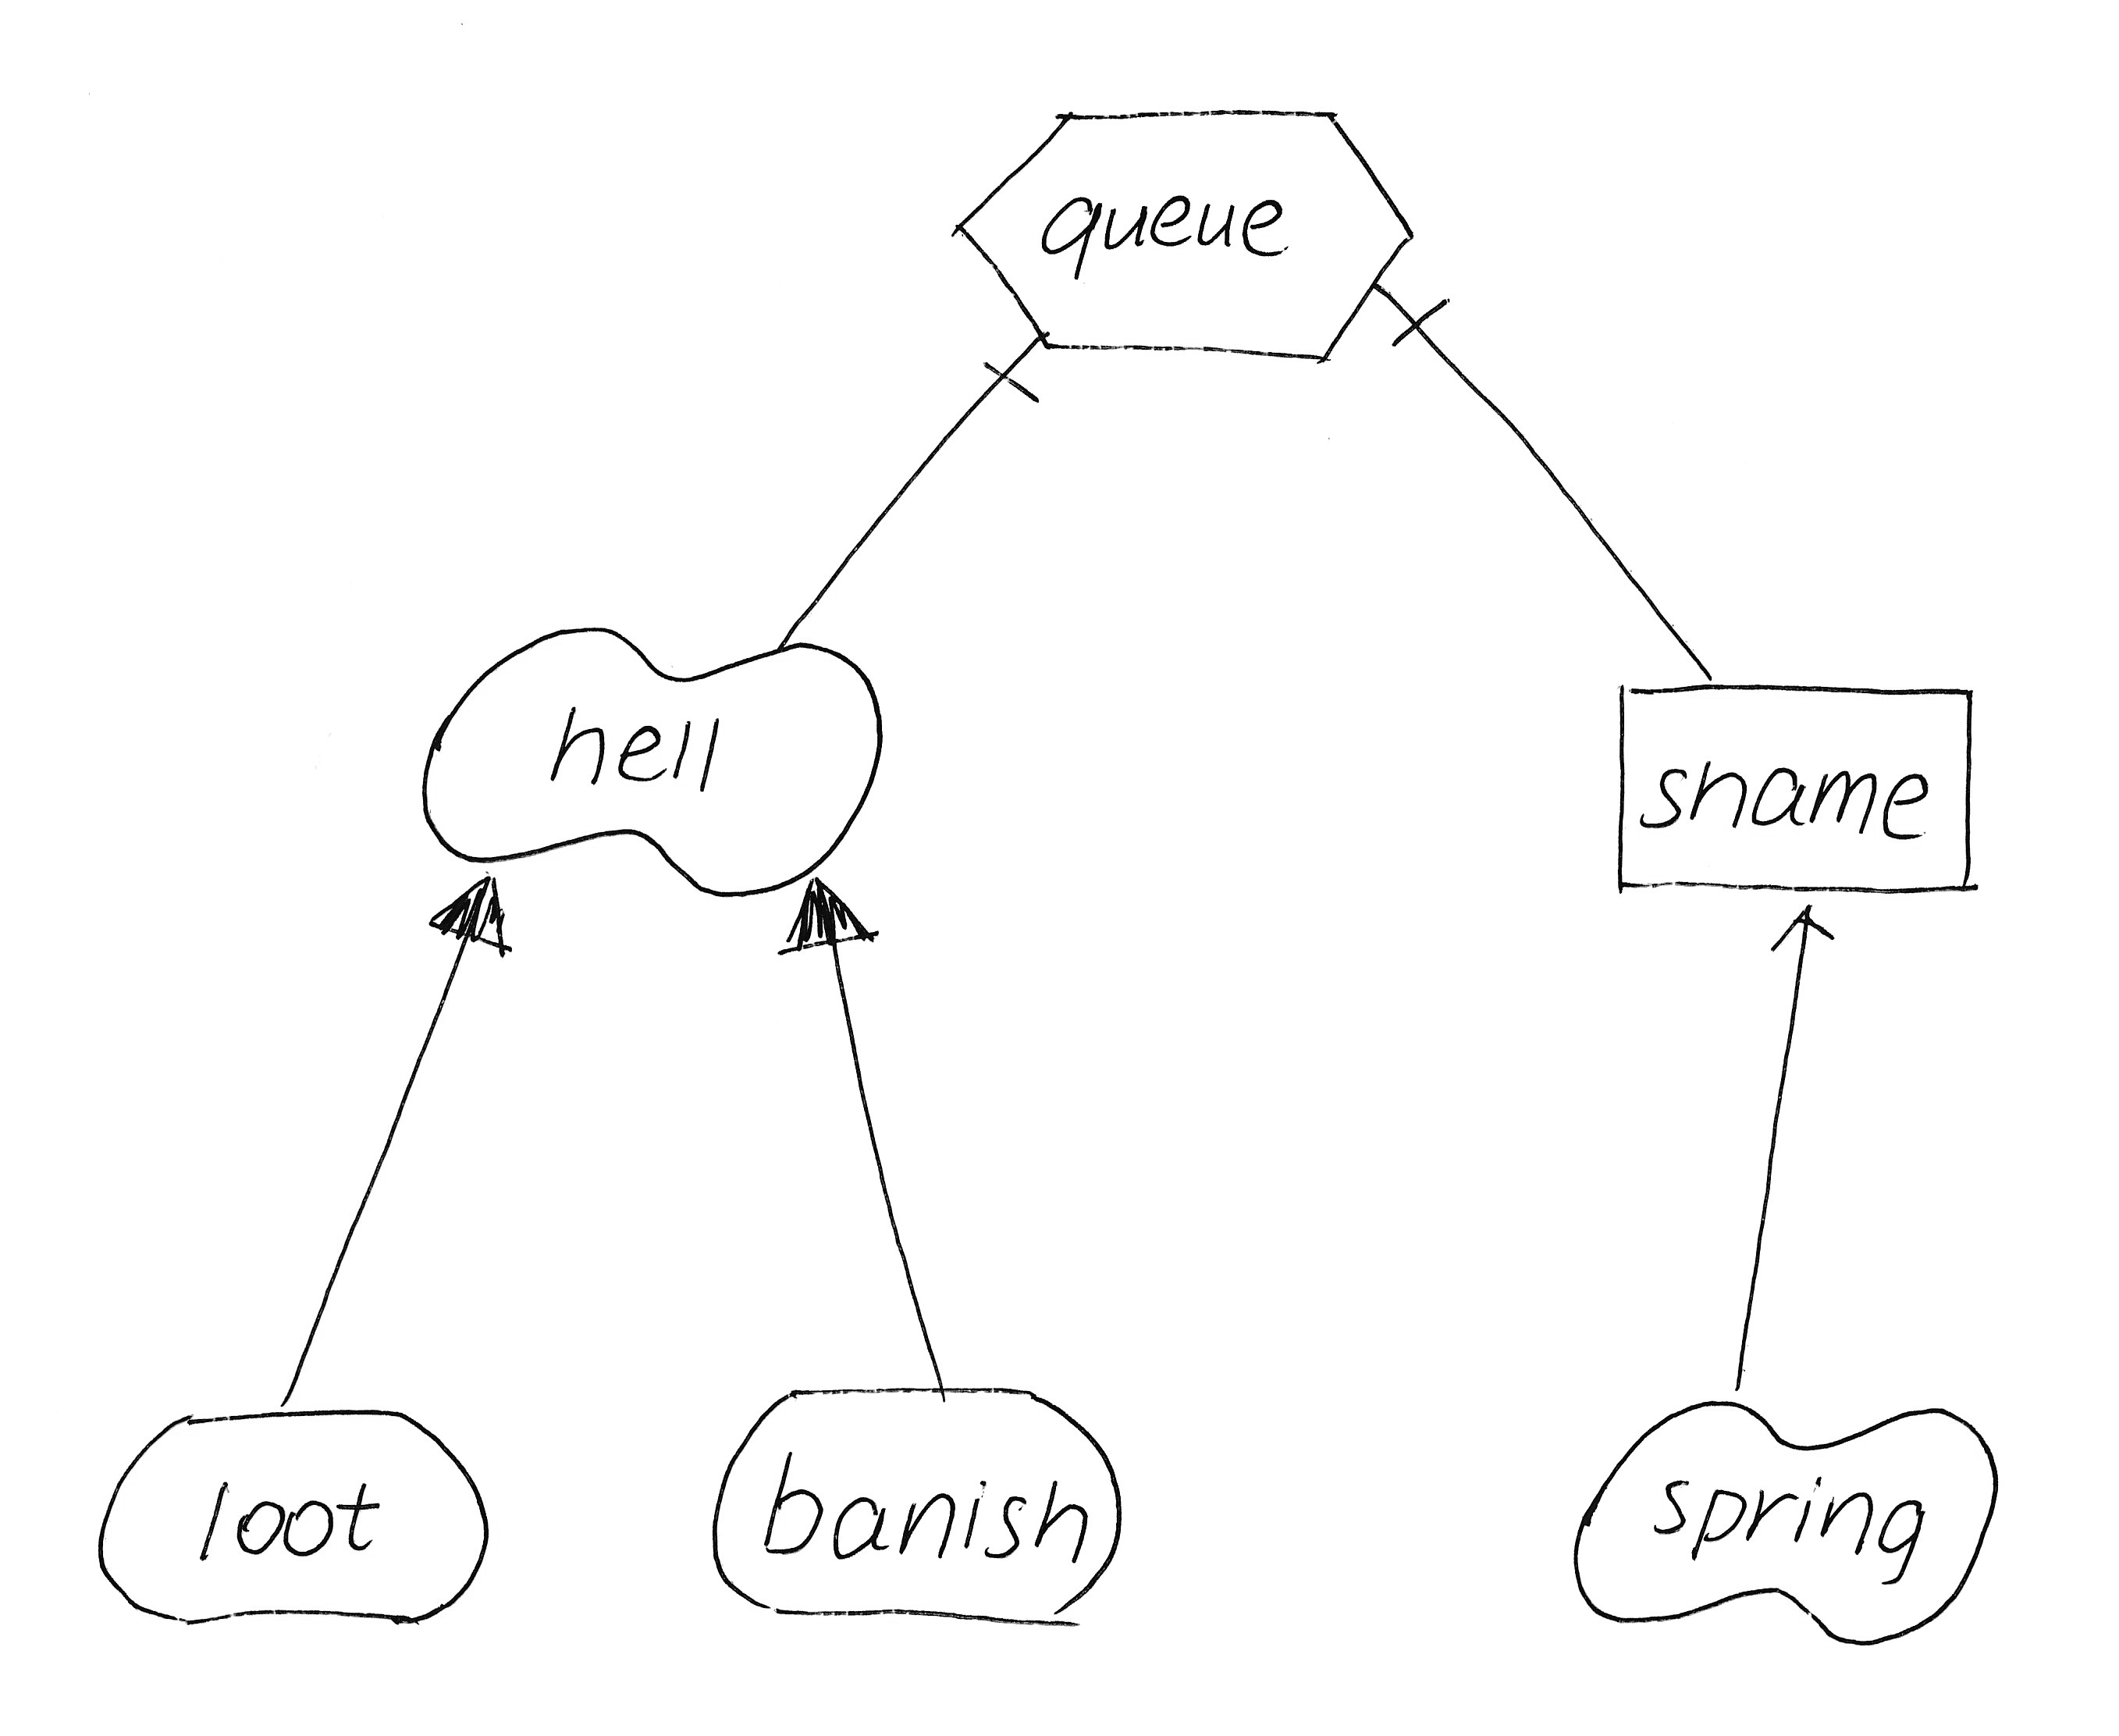and: (1367, 269, 1457, 363), (973, 326, 1063, 414)
arrow: (1767, 896, 1843, 975)
goal: (692, 1370, 1142, 1644), (74, 1391, 509, 1639)
or: (771, 870, 884, 968), (424, 870, 532, 965)
quality: (400, 607, 905, 912), (1556, 1382, 2017, 1657)
resource: (1593, 664, 2003, 923)
task: (938, 83, 1429, 384)
